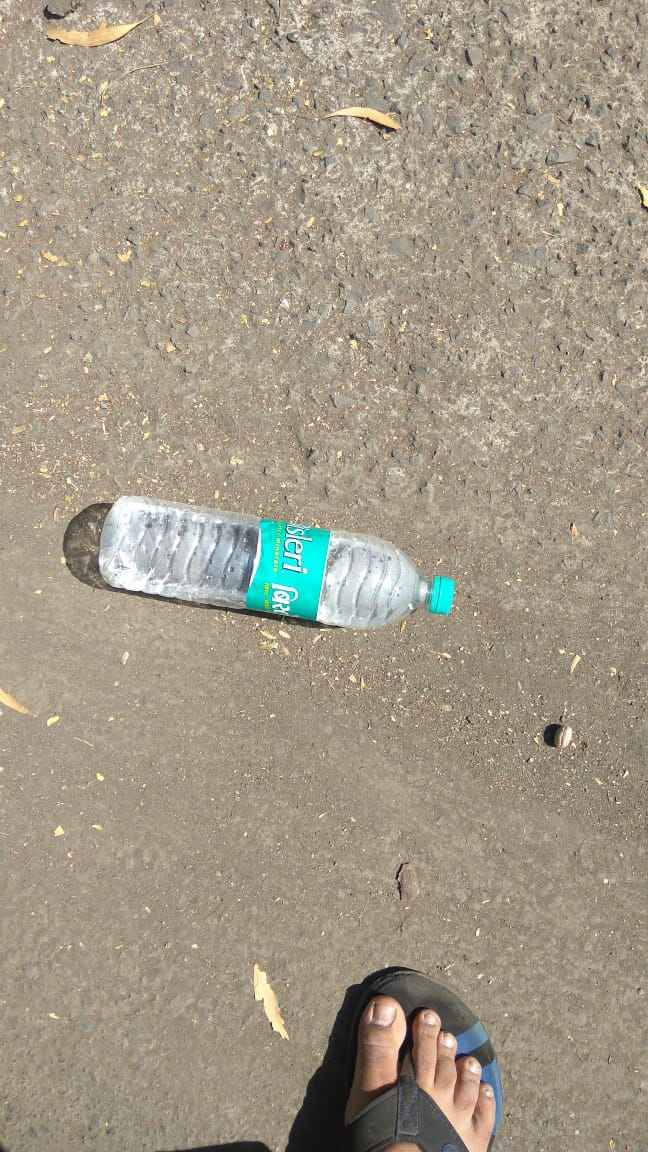Bisleri: (261, 521, 323, 628)
